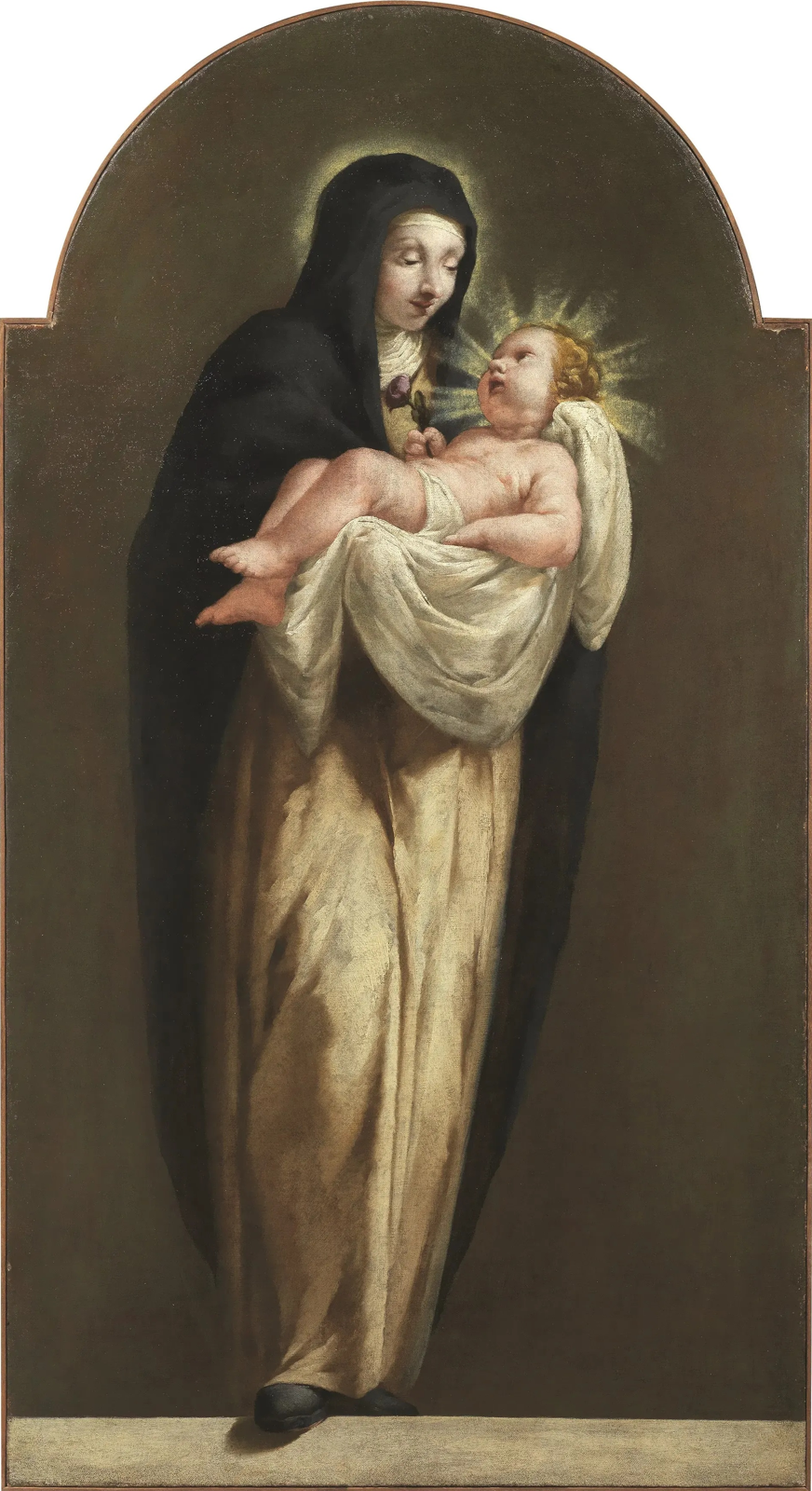fachada: (19, 0, 792, 1472)
